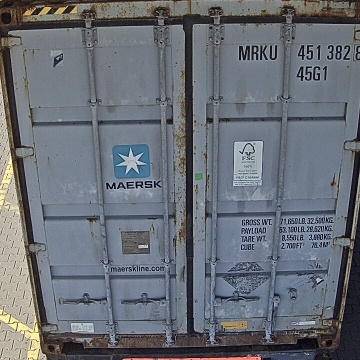serial_id: (238, 44, 360, 61)
